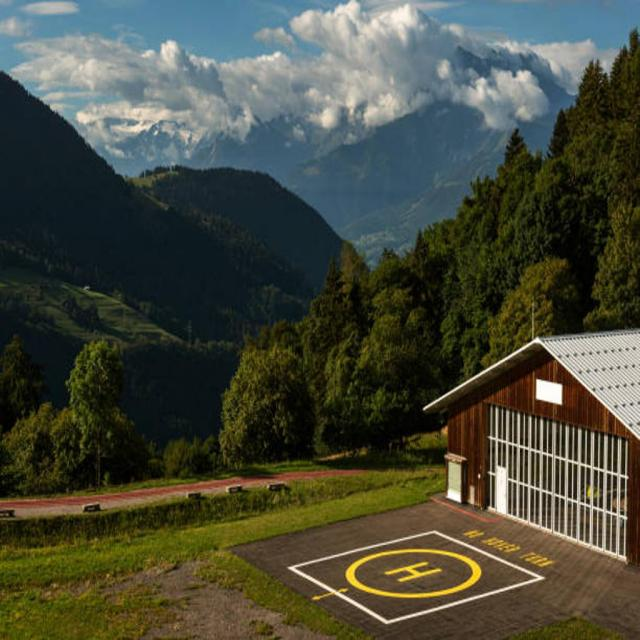helipad: (345, 547, 482, 598)
